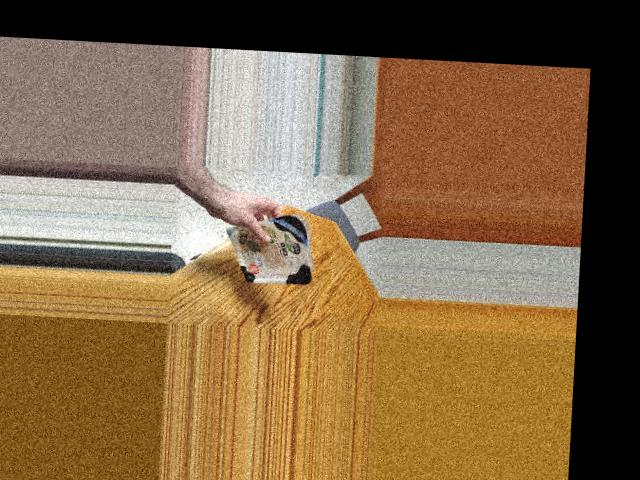cheese: (230, 223, 316, 279)
